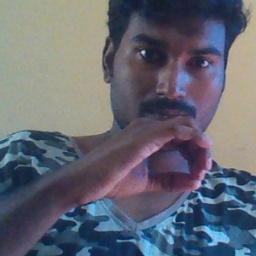O: (80, 111, 216, 203)
